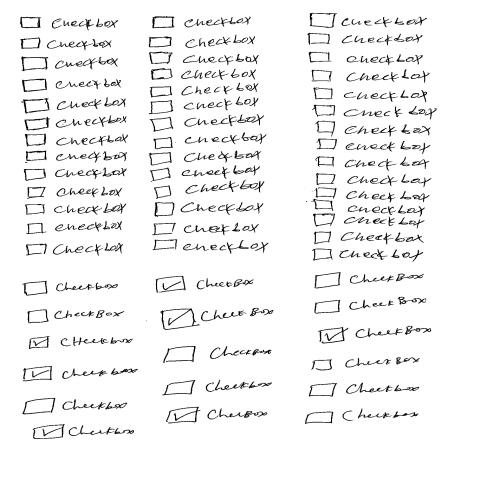Check Box: (159, 308, 276, 332), (314, 295, 427, 317), (316, 326, 432, 346), (314, 119, 434, 138), (309, 12, 428, 30), (22, 397, 129, 417), (313, 271, 424, 290), (150, 116, 265, 134), (163, 406, 271, 425), (311, 103, 437, 119), (162, 346, 274, 364), (155, 275, 256, 294), (162, 380, 274, 397), (20, 366, 139, 382), (311, 87, 429, 103), (317, 139, 432, 155), (316, 156, 431, 172), (311, 69, 432, 84), (22, 98, 128, 115), (31, 424, 137, 441), (154, 202, 265, 218), (304, 410, 420, 425), (151, 99, 259, 115), (20, 56, 121, 73), (153, 136, 267, 151), (307, 383, 421, 398), (23, 116, 129, 132), (314, 213, 426, 228), (314, 199, 426, 214), (310, 356, 422, 371), (22, 281, 120, 298), (314, 172, 432, 186), (148, 152, 258, 167), (154, 185, 264, 200), (307, 32, 424, 46), (151, 84, 260, 99), (150, 168, 258, 183), (312, 249, 425, 263), (28, 336, 133, 351), (314, 231, 425, 245), (148, 36, 257, 50), (309, 52, 426, 65), (22, 78, 123, 93), (153, 222, 261, 236), (153, 240, 269, 253), (151, 16, 251, 31), (19, 16, 118, 31), (151, 68, 257, 82), (314, 187, 428, 200), (28, 309, 125, 324), (149, 52, 260, 65), (25, 243, 123, 257), (27, 221, 124, 235), (25, 134, 129, 147), (24, 168, 126, 181), (26, 203, 127, 216), (21, 37, 114, 51), (27, 186, 123, 199), (25, 151, 128, 163)
